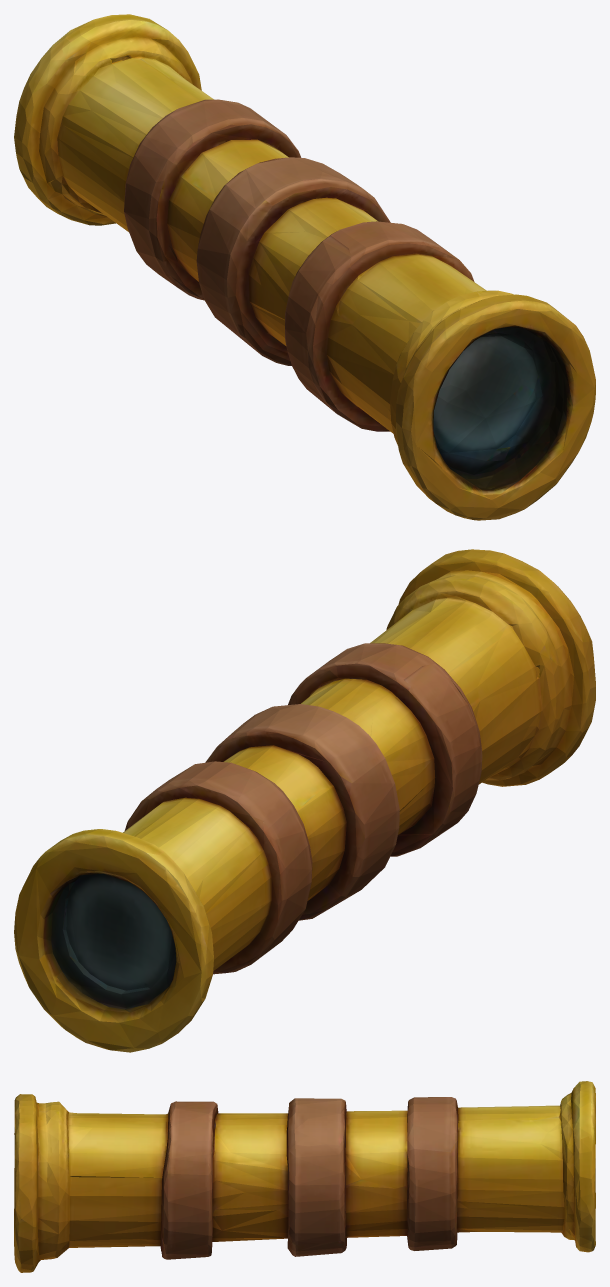
Rendered from brass_spyglass.glb.
The picture shows the model from 3 angles, top to bottom: view 1: azimuth 30°, elevation 25°; view 2: azimuth 150°, elevation 25°; view 3: azimuth 270°, elevation 25°; orthographic projection. The views are drawn at different scales.
Parts seen in each view (by area): view 1: geometry_0; view 2: geometry_0; view 3: geometry_0.
Boxes of the visible parts, x1,y1,x2,y2 form: geometry_0: (14,14,595,520); geometry_0: (14,549,595,1052); geometry_0: (14,1081,595,1272).
Size of the model in its own units: 0.1042 by 0.1128 by 0.35.
Materials: 1 (1 with a texture image).
